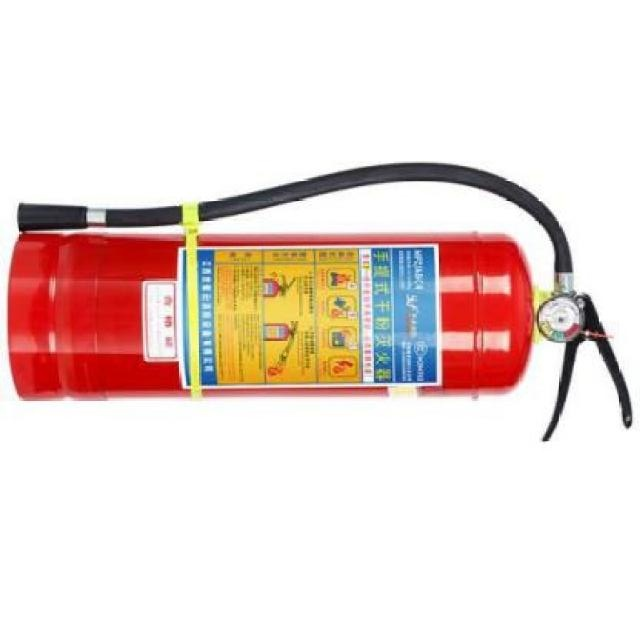fire extinguisher: (8, 161, 634, 442)
